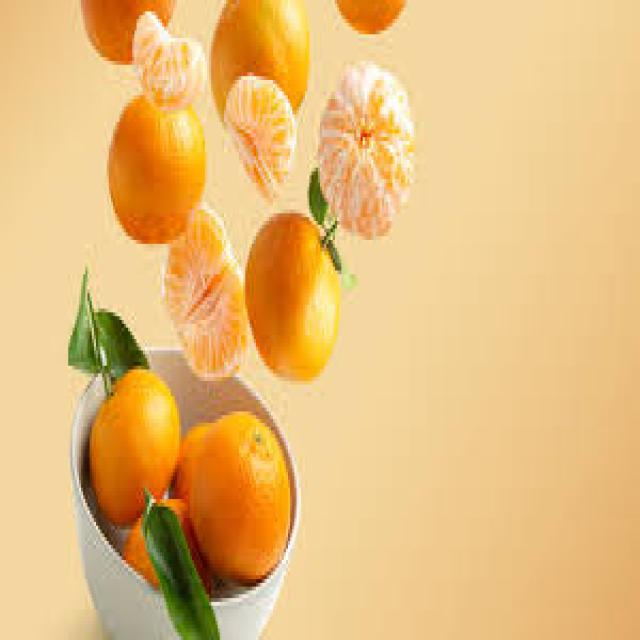orange: (248, 197, 350, 390), (88, 379, 181, 516)
